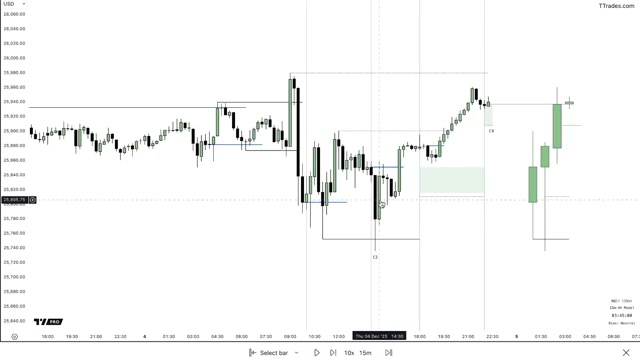protected_swing: (416, 198, 518, 241)
